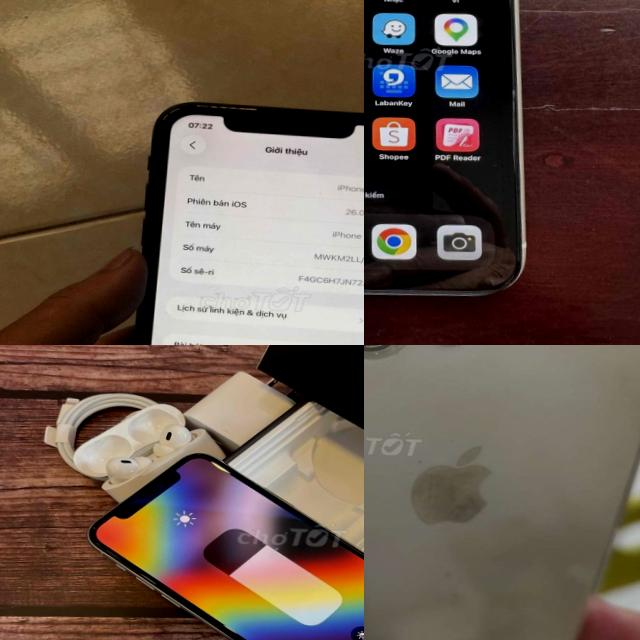scratch: (409, 438, 502, 532)
